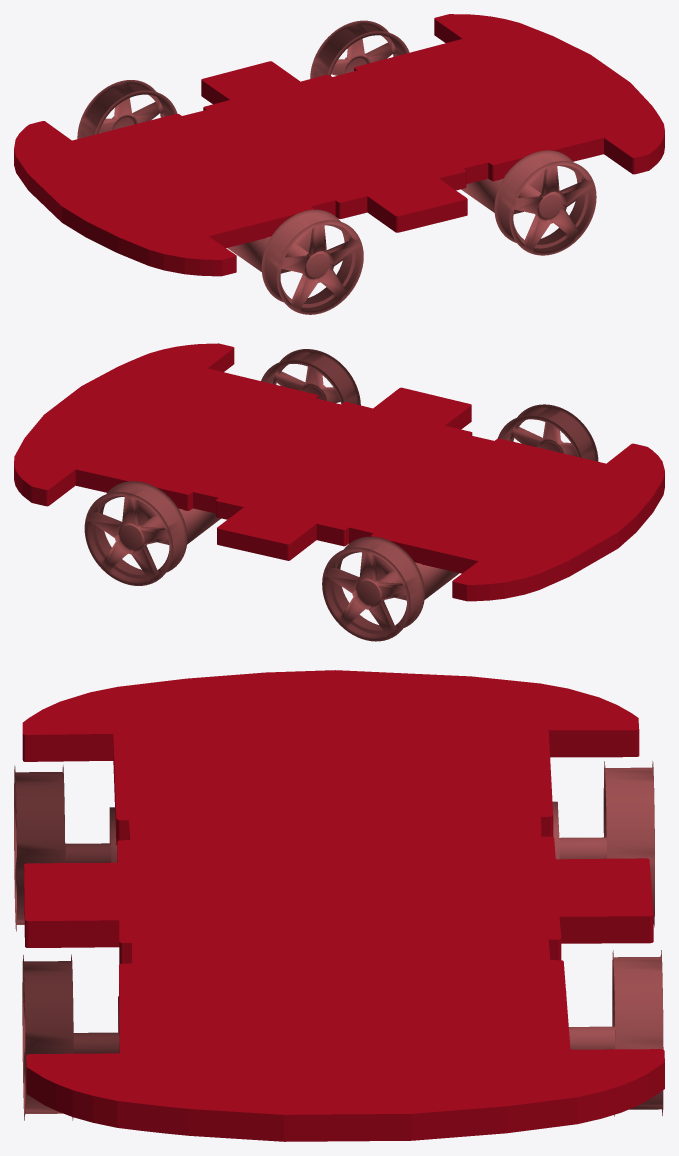
The model's file is body.glb.
3 renders of one model, top to bottom at view 1: azimuth 30°, elevation 25°; view 2: azimuth 150°, elevation 25°; view 3: azimuth 270°, elevation 25°, orthographic. The views are drawn at different scales.
Visible parts, largest first — view 1: body, wheel.001, wheel.003, wheel.004, wheel.002, motor.001, motor.003; view 2: body, wheel.002, wheel.004, wheel.003, wheel.001, motor.002, motor.004; view 3: body, wheel.001, wheel.003, wheel.002, wheel.004, motor.004, motor.003, motor.001, motor.002.
Part boxes in pixels (box(x1,y1,x2,y2)): body: box(14, 14, 664, 276); wheel.001: box(494, 150, 596, 255); wheel.003: box(261, 209, 363, 314); wheel.004: box(77, 80, 177, 138); wheel.002: box(310, 20, 409, 78); motor.001: box(461, 169, 544, 214); motor.003: box(227, 229, 311, 273); body: box(14, 343, 664, 601); wheel.002: box(84, 481, 187, 585); wheel.004: box(322, 536, 424, 641); wheel.003: box(497, 404, 598, 461); wheel.001: box(261, 349, 360, 405); motor.002: box(137, 500, 220, 544); motor.004: box(374, 555, 459, 600); body: box(22, 670, 664, 1141); wheel.001: box(22, 954, 73, 1120); wheel.003: box(14, 765, 65, 931); wheel.002: box(612, 950, 663, 1116); wheel.004: box(603, 761, 654, 927); motor.004: box(552, 801, 606, 859); motor.003: box(65, 807, 117, 862); motor.001: box(73, 996, 119, 1053); motor.002: box(566, 991, 614, 1049).
Bounding box in the file's own units: 0.4584 × 0.0729 × 0.2836.
